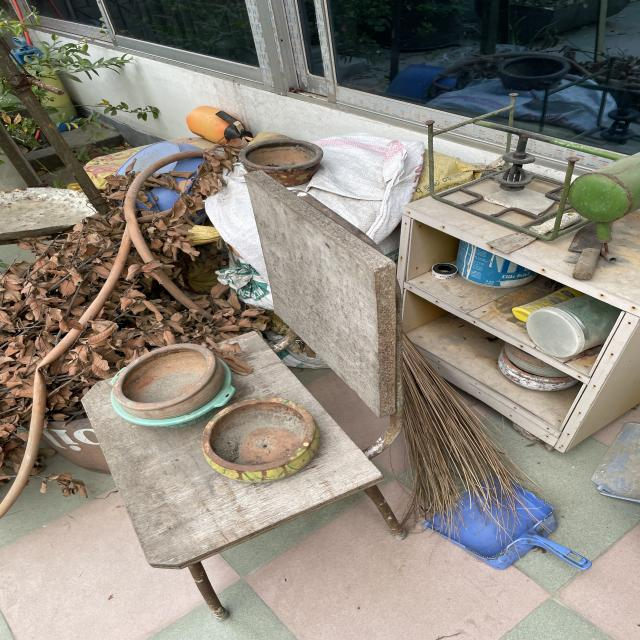Breeding Place: (430, 479, 594, 576), (208, 400, 318, 481), (118, 346, 232, 417), (243, 136, 322, 182)
